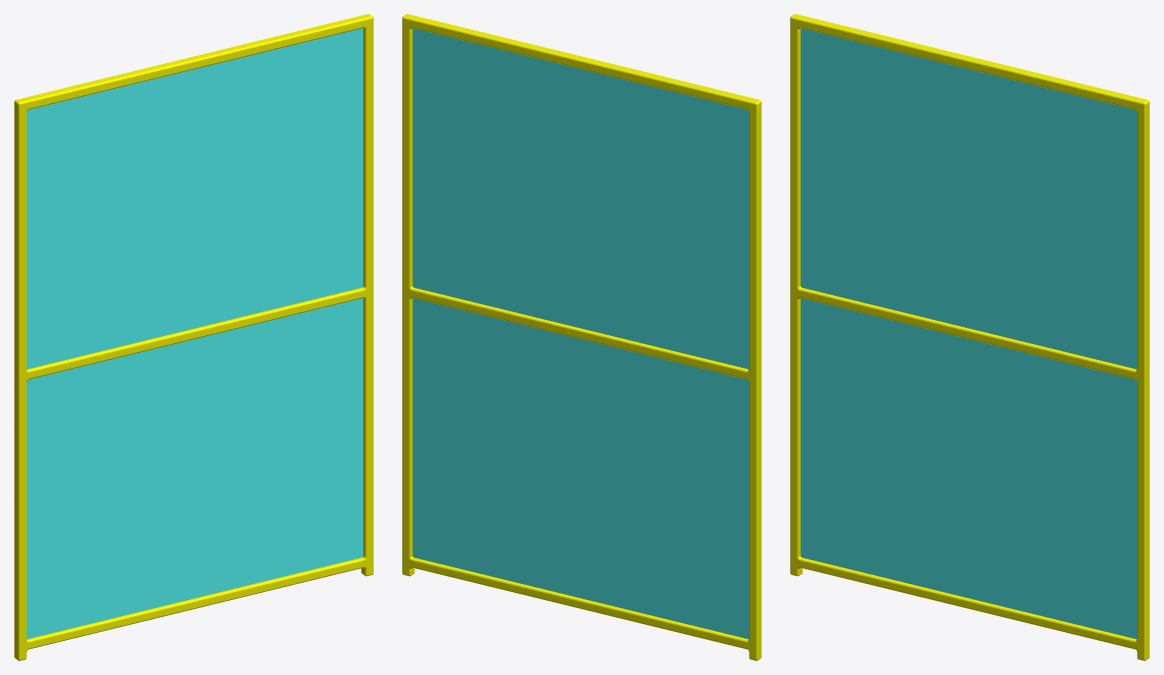
The model's file is Panel_3m_2m.dae.
The picture shows the model from 3 angles, left to right: view 1: azimuth 30°, elevation 25°; view 2: azimuth 150°, elevation 25°; view 3: azimuth 330°, elevation 25°; orthographic projection.
Visible parts, largest first — view 1: node0, node2, node1; view 2: node2, node0, node1; view 3: node0, node2, node1.
Boxes of the visible parts, x1,y1,x2,y2 form: node0: (26,298,363,639); node2: (26,28,363,369); node1: (14,14,373,660); node2: (412,28,749,369); node0: (412,298,749,639); node1: (402,14,761,660); node0: (800,298,1137,639); node2: (800,28,1137,369); node1: (790,14,1149,660).
Bounding box in the file's own units: 2 × 0.05 × 3.
